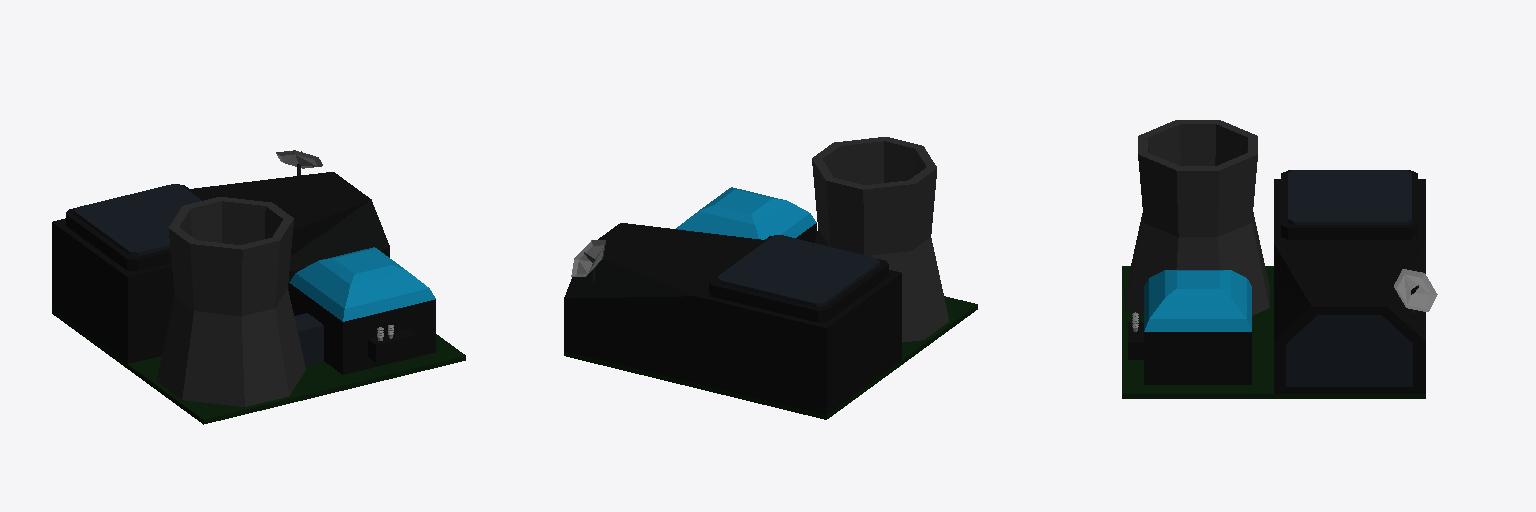
The model's file is powerplant.obj.
The picture shows the model from 3 angles: view 1: azimuth 30°, elevation 25°; view 2: azimuth 150°, elevation 25°; view 3: azimuth 270°, elevation 25°; orthographic projection.
Parts seen in each view (by area): view 1: PowerPlant, hatchL, hatchR, pCube1, satelite; view 2: PowerPlant, hatchL, hatchR, satelite; view 3: PowerPlant, door, hatchR, hatchL, satelite, pCube1.
Part boxes in pixels (left/top/right/bottom): PowerPlant: left=52, top=172, right=465, bottom=424; hatchL: left=74, top=184, right=201, bottom=234; hatchR: left=102, top=213, right=177, bottom=255; pCube1: left=368, top=329, right=417, bottom=362; satelite: left=276, top=150, right=322, bottom=175; PowerPlant: left=564, top=137, right=977, bottom=419; hatchL: left=718, top=256, right=851, bottom=306; hatchR: left=746, top=235, right=879, bottom=285; satelite: left=571, top=240, right=605, bottom=282; PowerPlant: left=1122, top=120, right=1425, bottom=398; door: left=1286, top=315, right=1412, bottom=386; hatchR: left=1288, top=170, right=1349, bottom=224; hatchL: left=1350, top=170, right=1411, bottom=224; satelite: left=1394, top=269, right=1437, bottom=313; pCube1: left=1128, top=322, right=1143, bottom=359.
Size of the model in its own units: 0.15 by 0.086 by 0.1561.